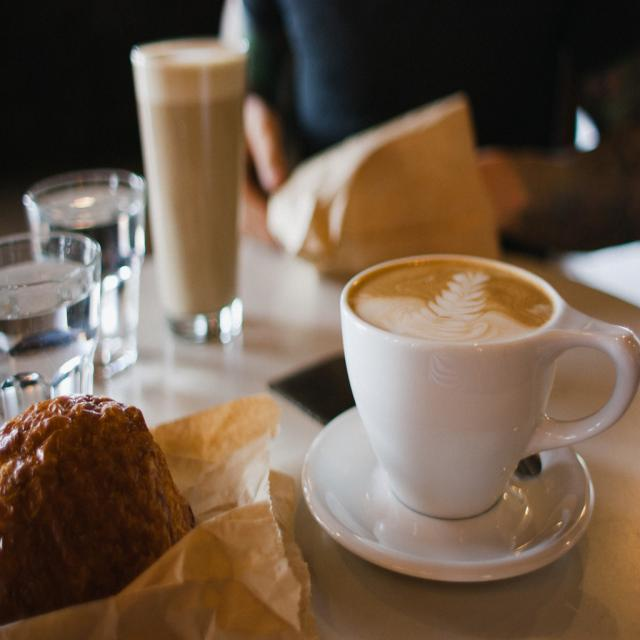Coffee: (348, 258, 555, 350)
Tea: (134, 37, 252, 325), (351, 258, 553, 339)
